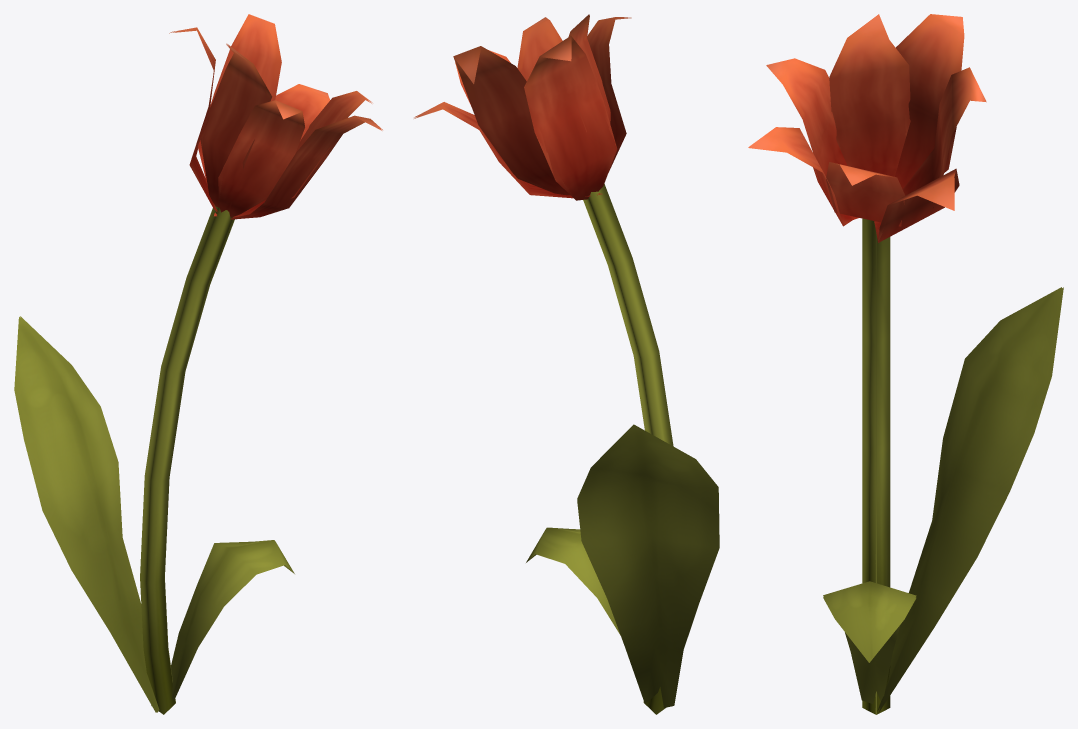
Rendered from Flower_01_01.fbx.
3 views of the same model, side by side, from view 1: azimuth 30°, elevation 25°; view 2: azimuth 150°, elevation 25°; view 3: azimuth 270°, elevation 25° (orthographic). The views are drawn at different scales.
Parts seen in each view (by area): view 1: Flower_01_01; view 2: Flower_01_01; view 3: Flower_01_01.
Part boxes in pixels (<box>): Flower_01_01: <box>14,14,382,714</box>; Flower_01_01: <box>414,14,719,714</box>; Flower_01_01: <box>748,14,1063,714</box>.
Bounding box in the file's own units: 38.59 × 31.32 × 80.12.
